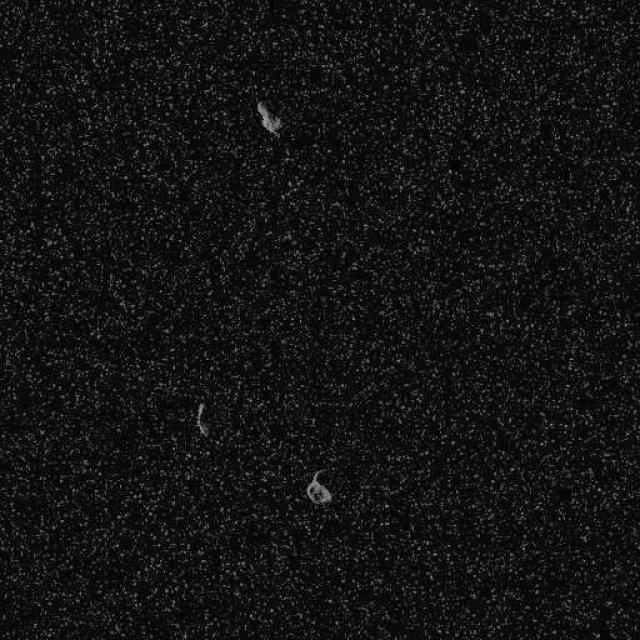D2: (305, 467, 333, 505), (255, 99, 283, 136), (194, 400, 208, 438)
